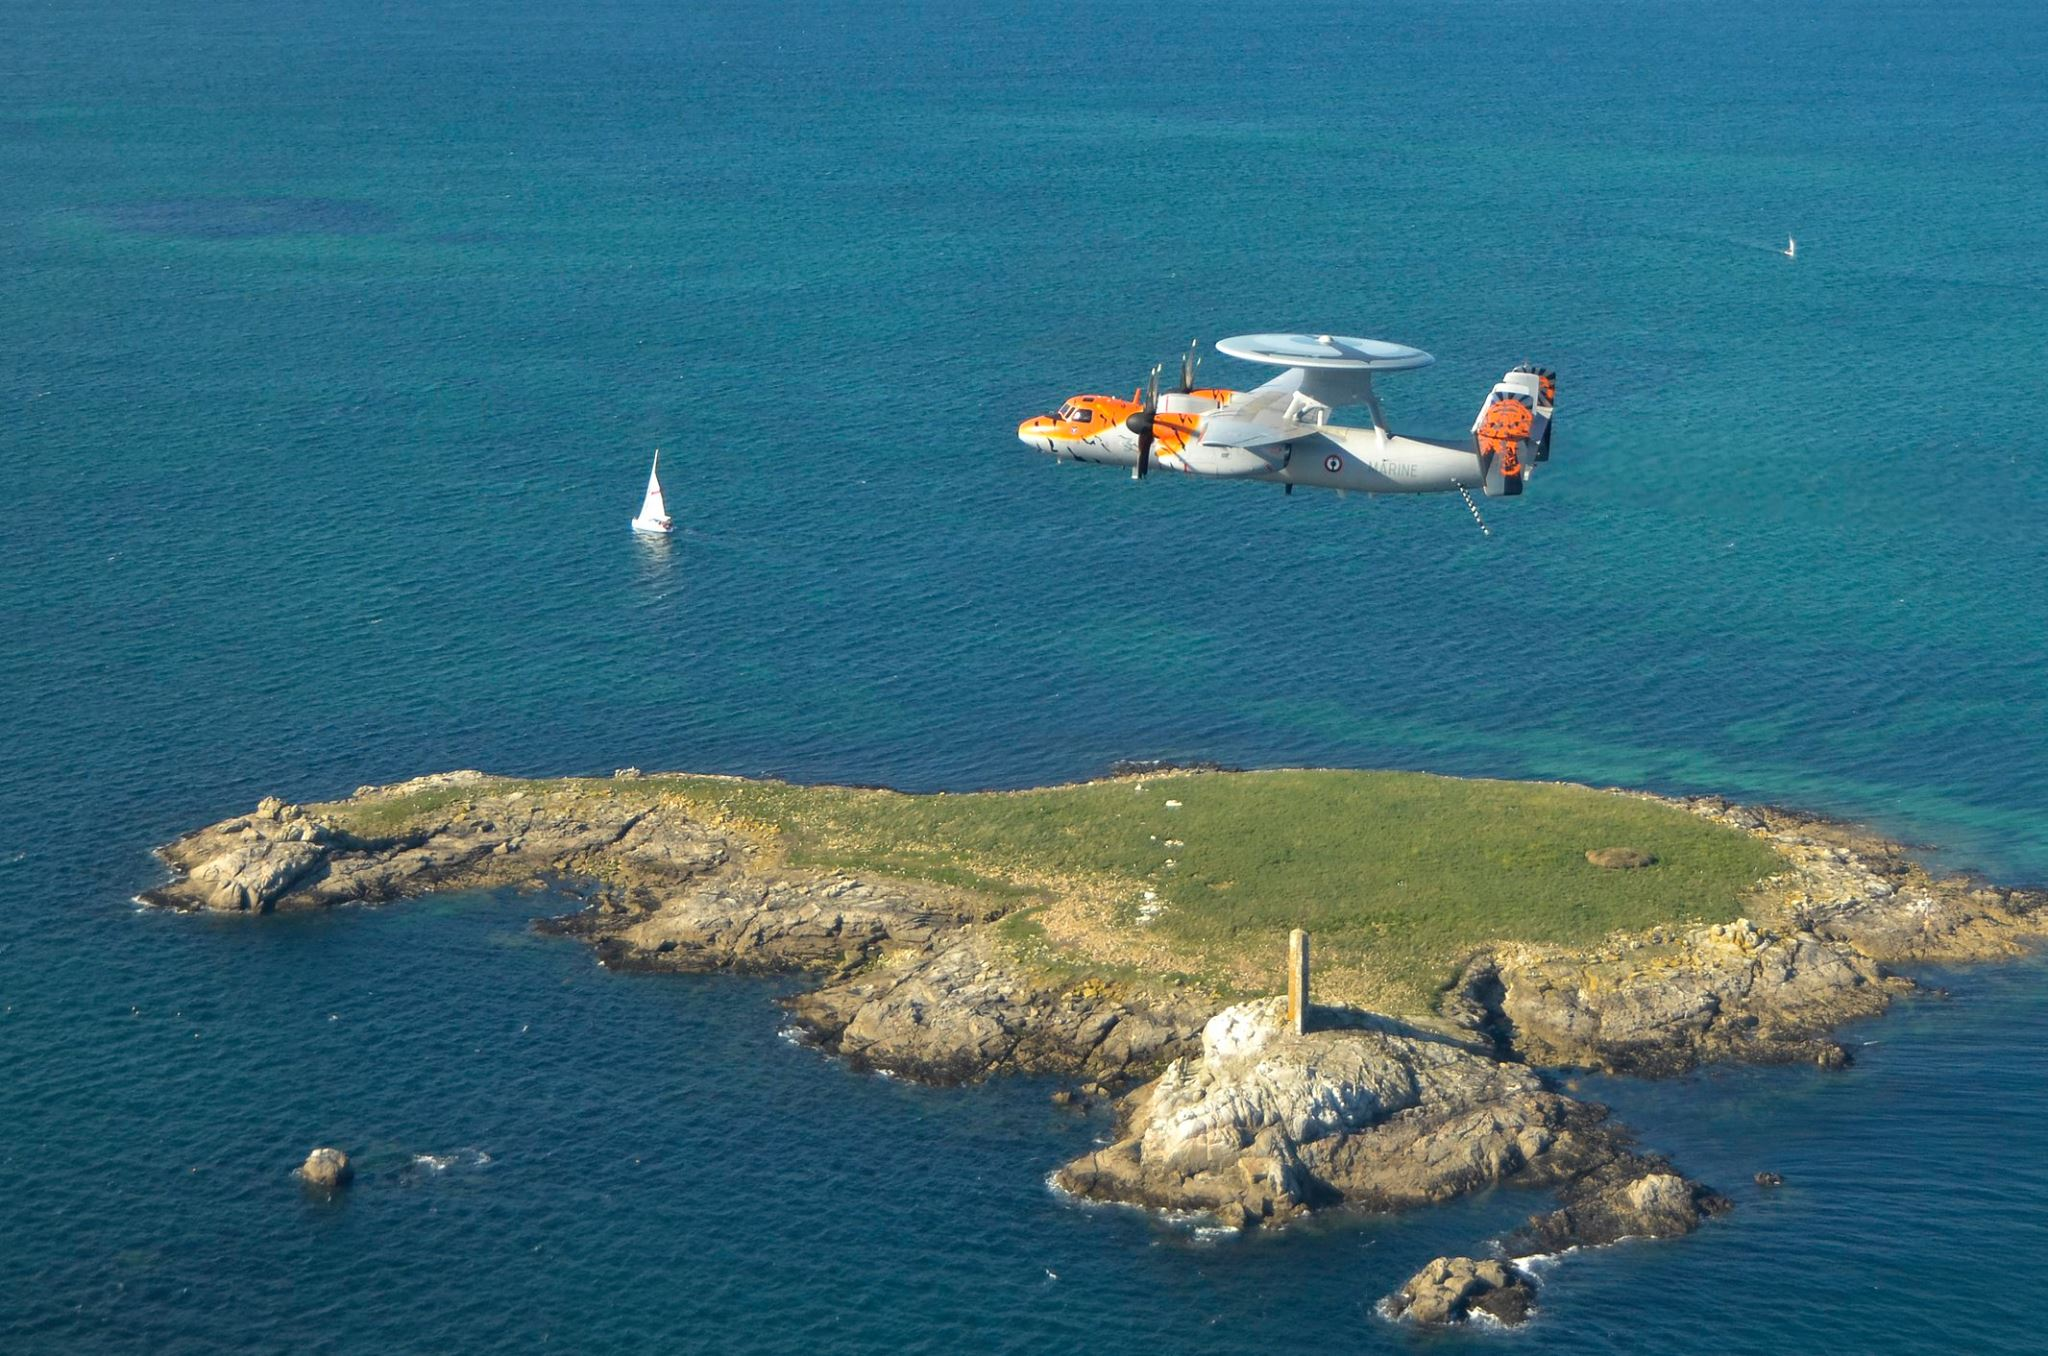E2: (1018, 333, 1556, 537)
